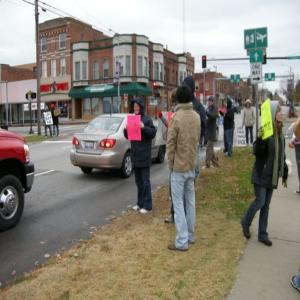Vehicle-registration-plate: (85, 143, 96, 149)
